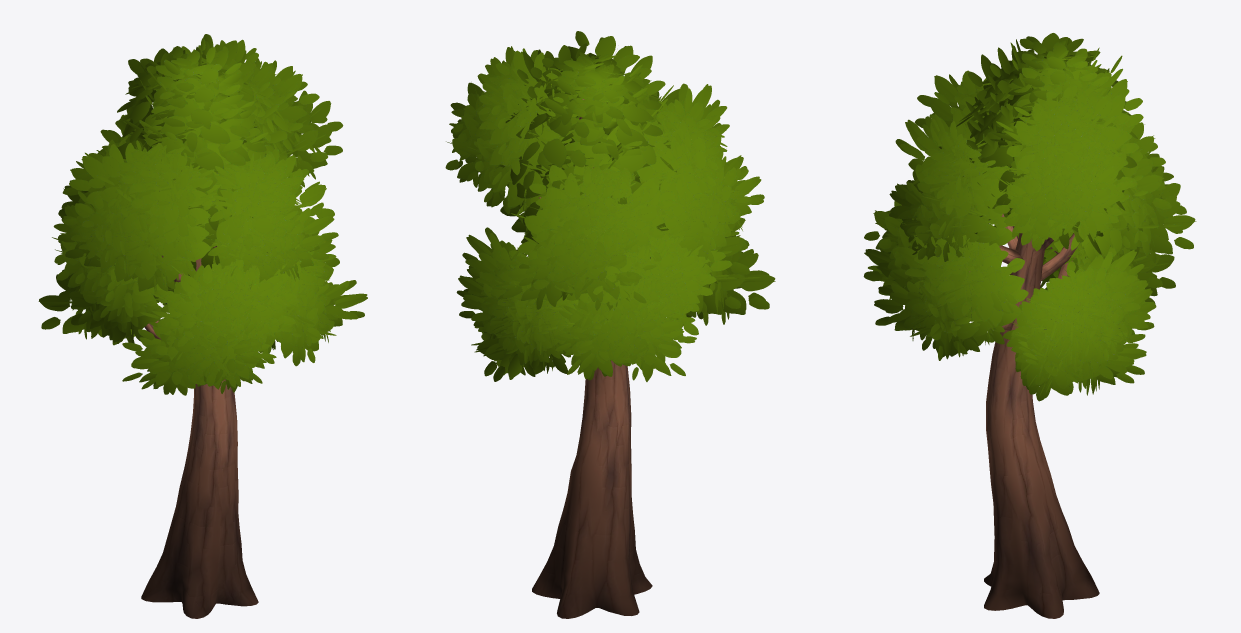
File: megakit.glb
The picture shows the model from 3 angles, left to right: view 1: azimuth 30°, elevation 25°; view 2: azimuth 150°, elevation 25°; view 3: azimuth 270°, elevation 25°; orthographic projection. The views are drawn at different scales.
Parts seen in each view (by area): view 1: CommonTree_1; view 2: CommonTree_1; view 3: CommonTree_1.
Boxes of the visible parts, x1,y1,x2,y2 form: CommonTree_1: (38, 34, 367, 618); CommonTree_1: (445, 31, 775, 618); CommonTree_1: (863, 33, 1196, 618).
Size of the model in its own units: 4.31 by 7.26 by 4.58.
Materials: 2 (2 with a texture image).
